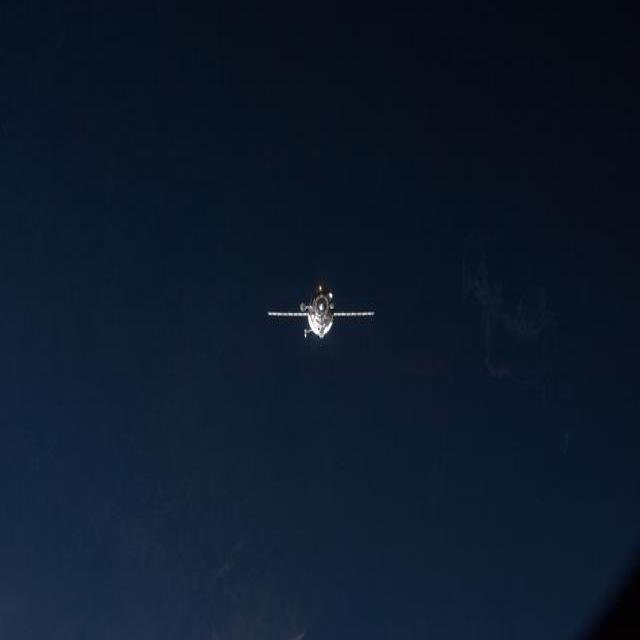medium_debris: (268, 282, 375, 338)
